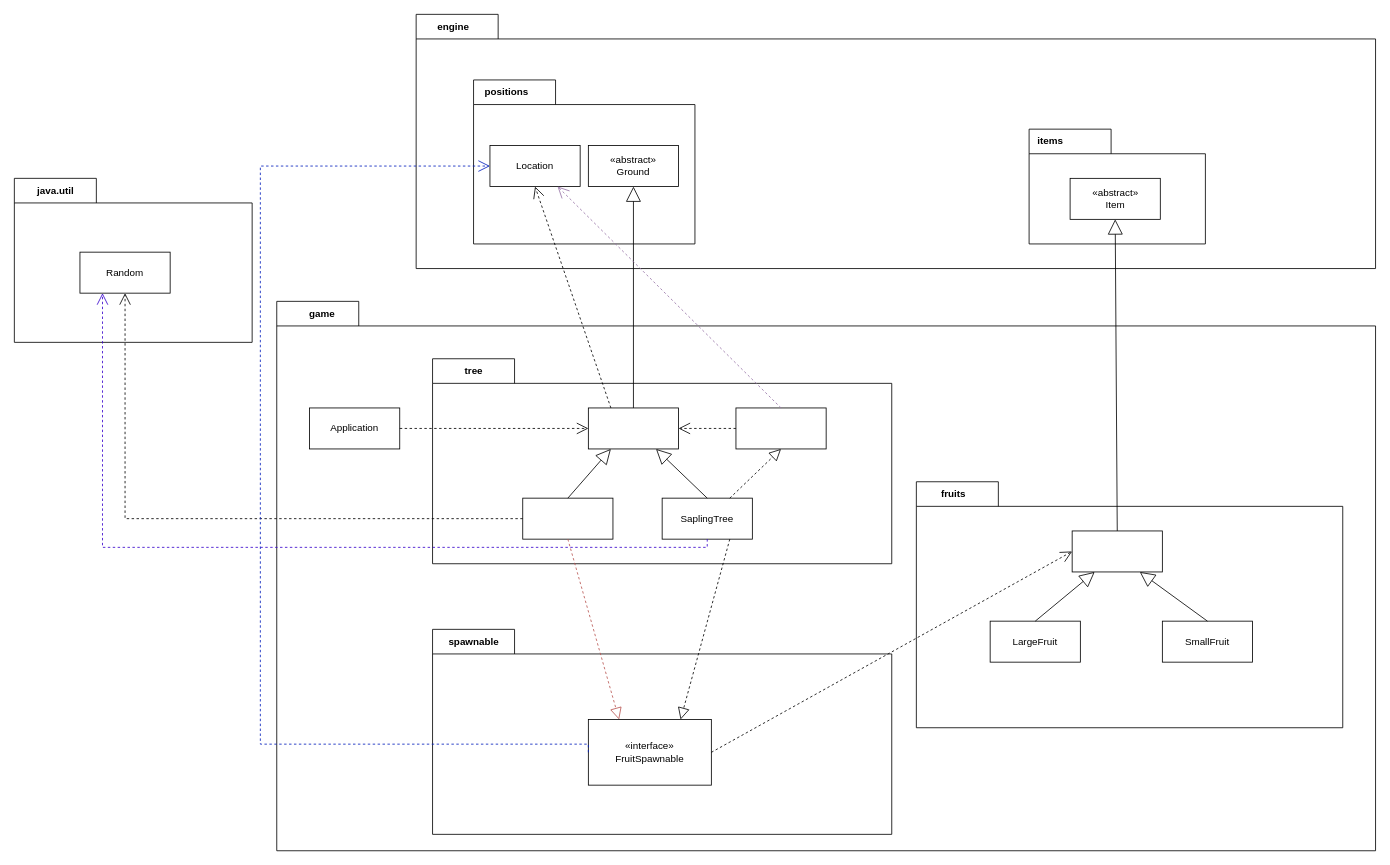
This 1390x865 diagram has some shape labels left out. The shapes that lost their labels are listed below. From the top down, each one's centre as x and y in pixels, then its label:
At [633,428]: "«abstract» Inheritree".
At [780,428]: "«interface» TreeGrowable".
At [567,518]: "MatureTree".
At [1116,551]: "«abstract» Consumable".
